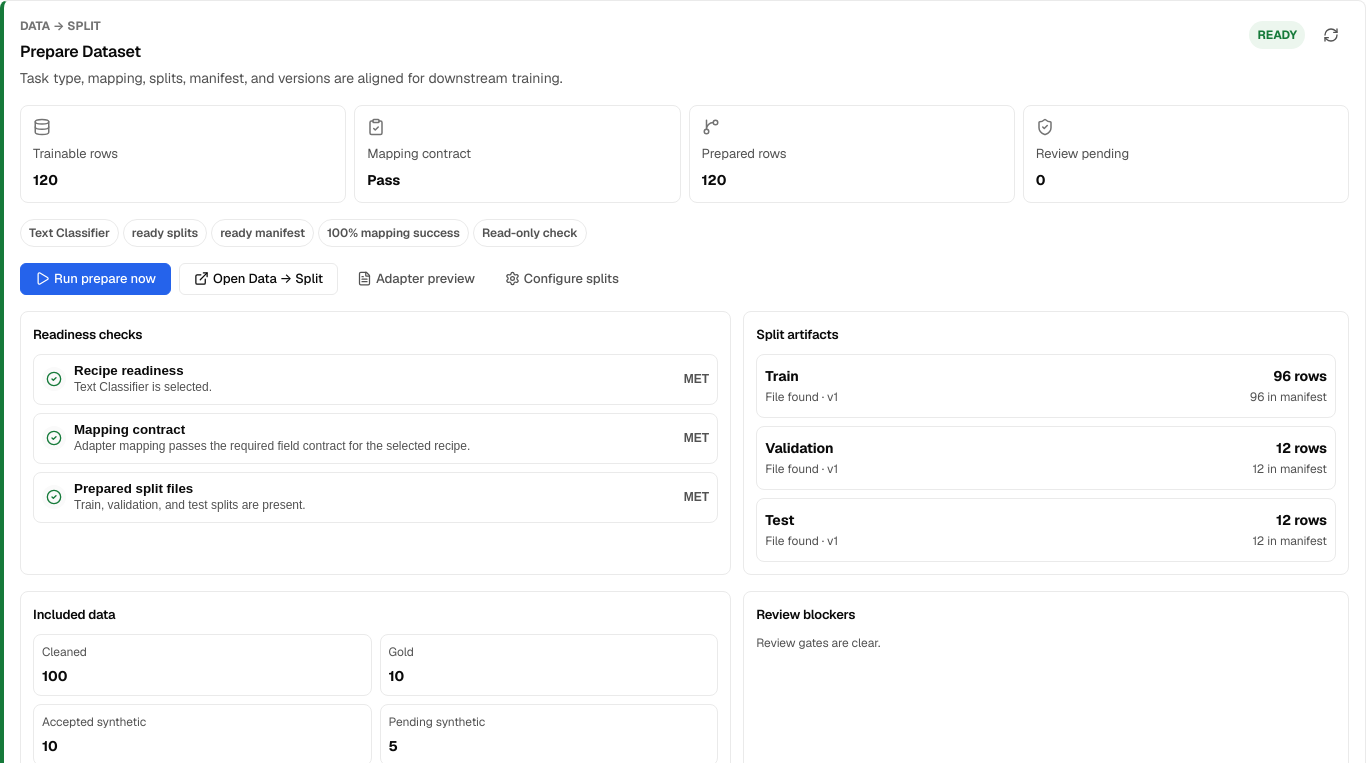
Test: DataStudioPrepareDatasetPanel › shows the provenance routing summary after a prepare run
Click the button with test id "data-studio-prepare-run".
click(96, 279)  # box [20,263,171,295]
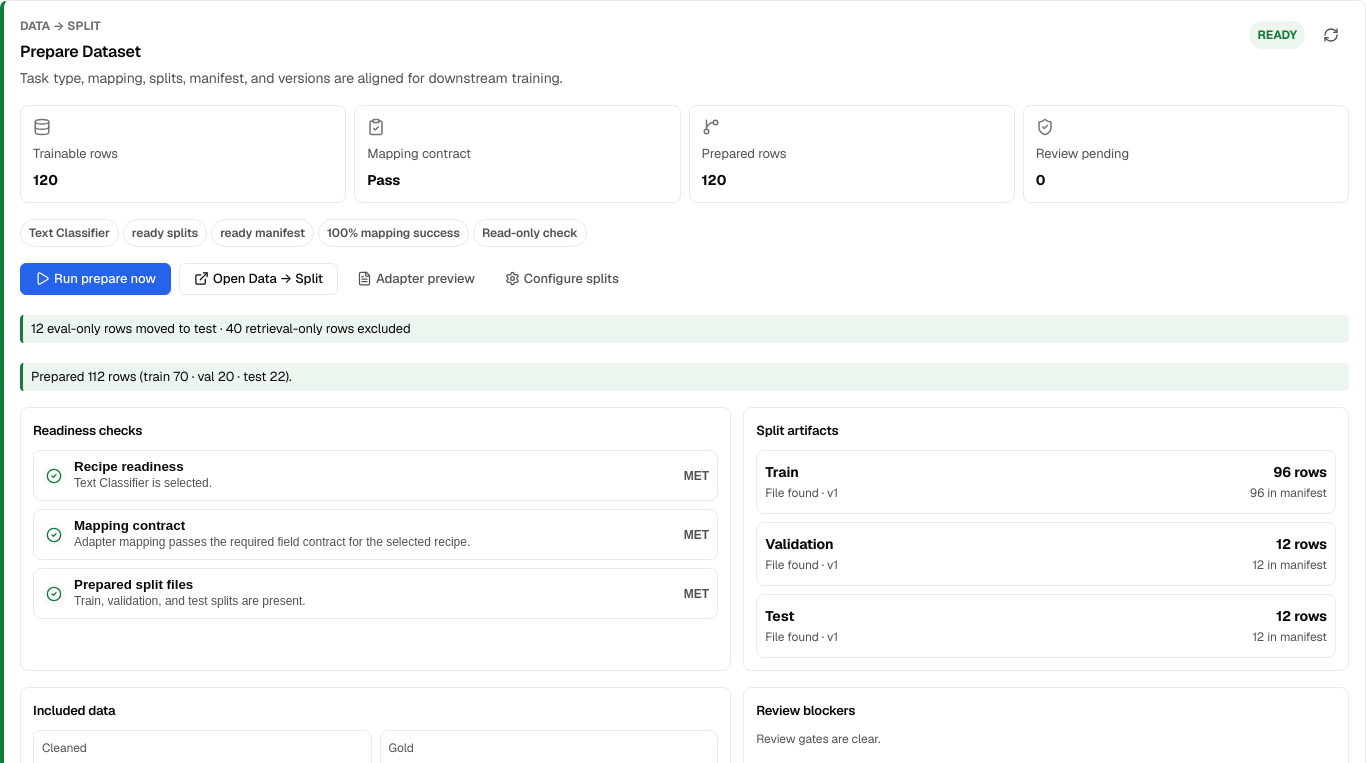
Now the text with test id "data-studio-prepare-provenance" reads "12 eval-only rows moved to test · 40 retrieval-only rows excluded", box [31,320,411,337]
